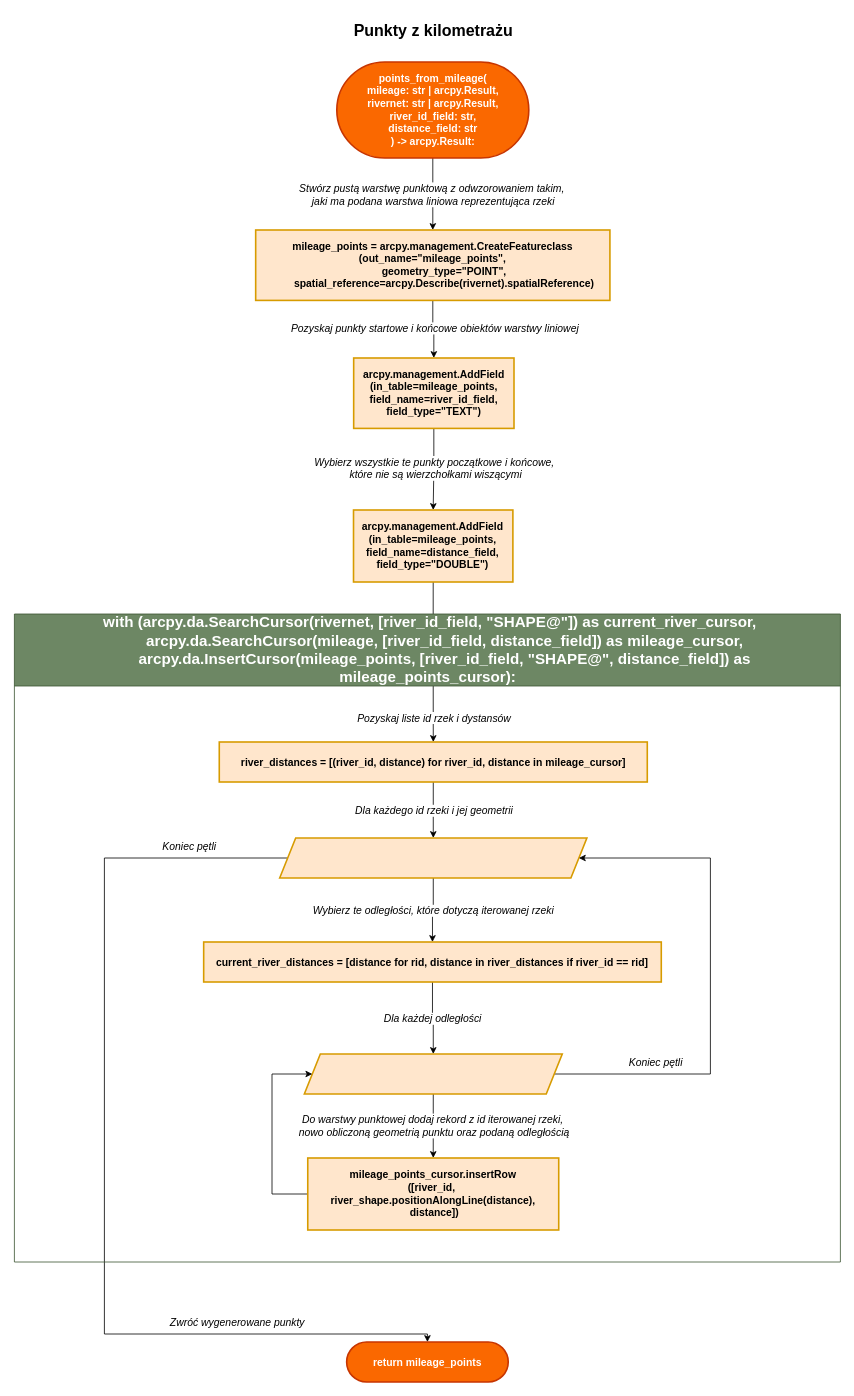
This 854x1396 diagram has some shape labels left out. Here are the shapes that lost their labels. From the top down, the centre of each, then its label:
(432,857): for river_id, river_shape in current_river_cursor:
(433,1073): for distance in current_river_distances:
